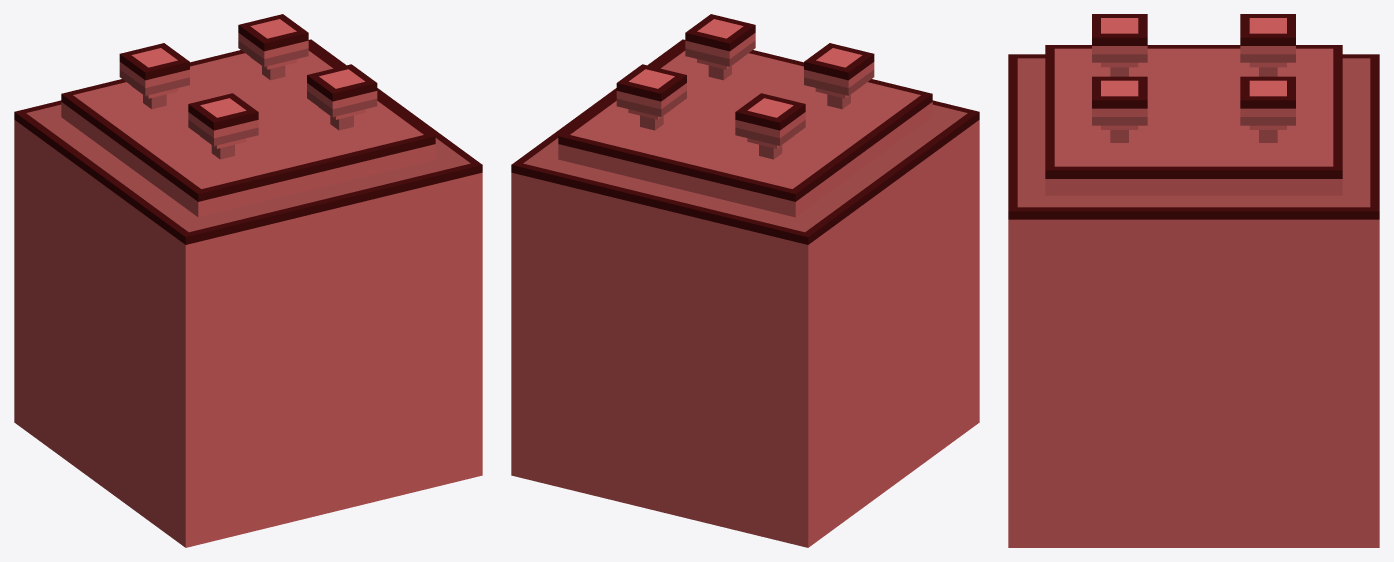
The model's file is superBlock.obj.
The picture shows the model from 3 angles, left to right: view 1: azimuth 30°, elevation 25°; view 2: azimuth 150°, elevation 25°; view 3: azimuth 270°, elevation 25°; orthographic projection. The views are drawn at different scales.
Parts seen in each view (by area): view 1: Untitled; view 2: Untitled; view 3: Untitled.
Part boxes in pixels (x1,y1,x2,y2): Untitled: (14,14,482,547); Untitled: (511,14,979,547); Untitled: (1008,14,1379,547).
Bounding box in the file's own units: 2 × 2.45 × 2.
